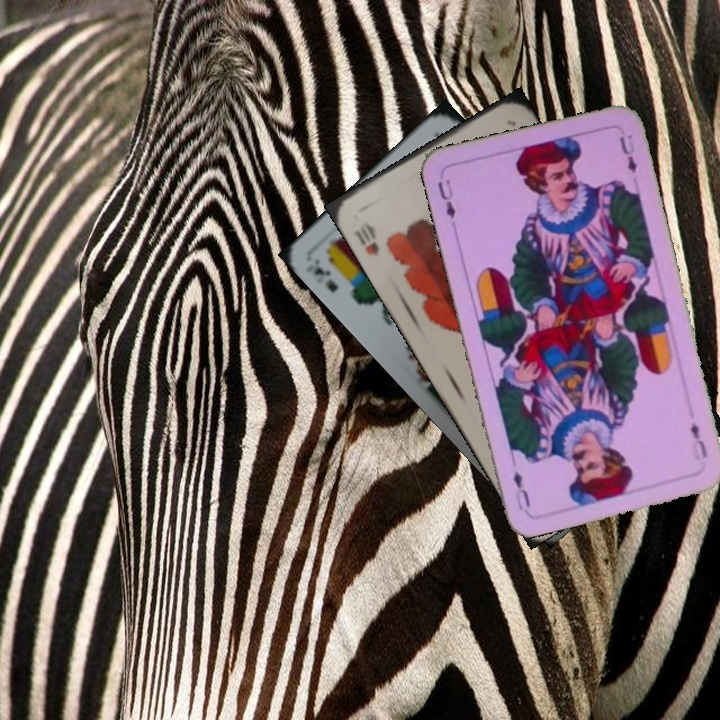EK: (301, 254, 341, 295)
EU: (434, 176, 458, 223), (686, 418, 710, 464)
H10: (349, 218, 382, 258)
